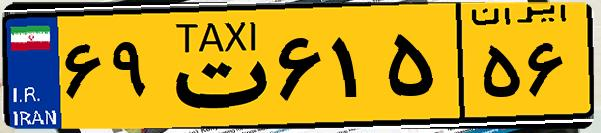1: (330, 28, 385, 110)
5: (385, 28, 445, 110), (475, 38, 525, 113)
6: (270, 28, 330, 110), (57, 26, 110, 100), (525, 38, 570, 115)
9: (110, 28, 158, 98)
ت: (158, 12, 270, 120)
